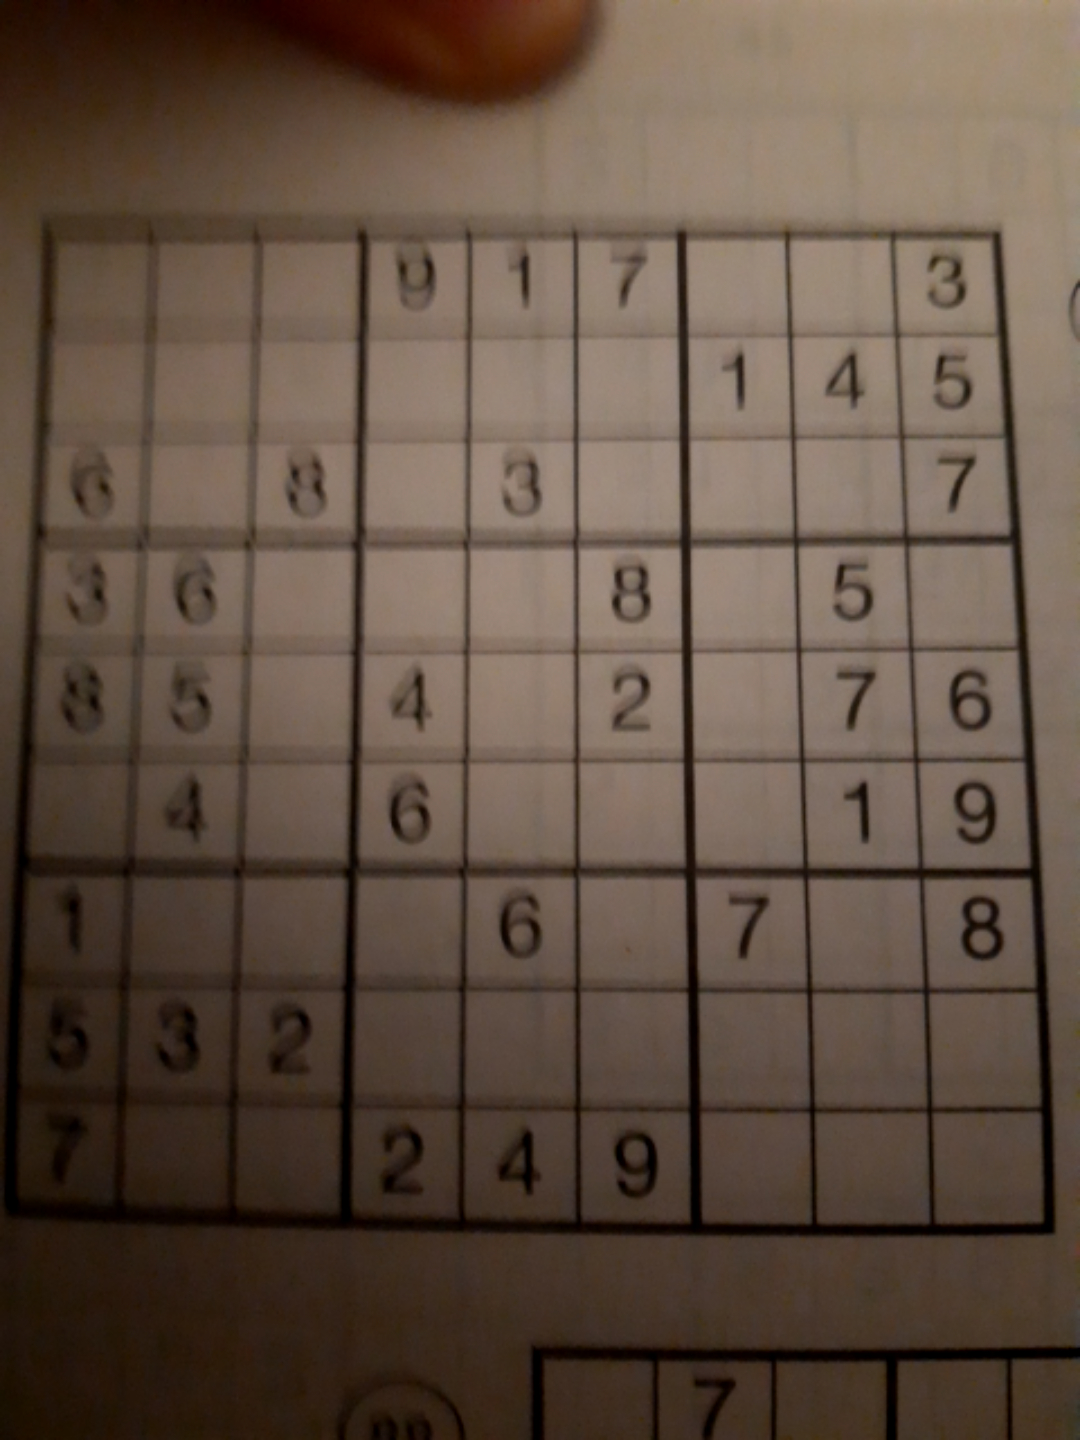sudoku: (12, 218, 1052, 1233)
